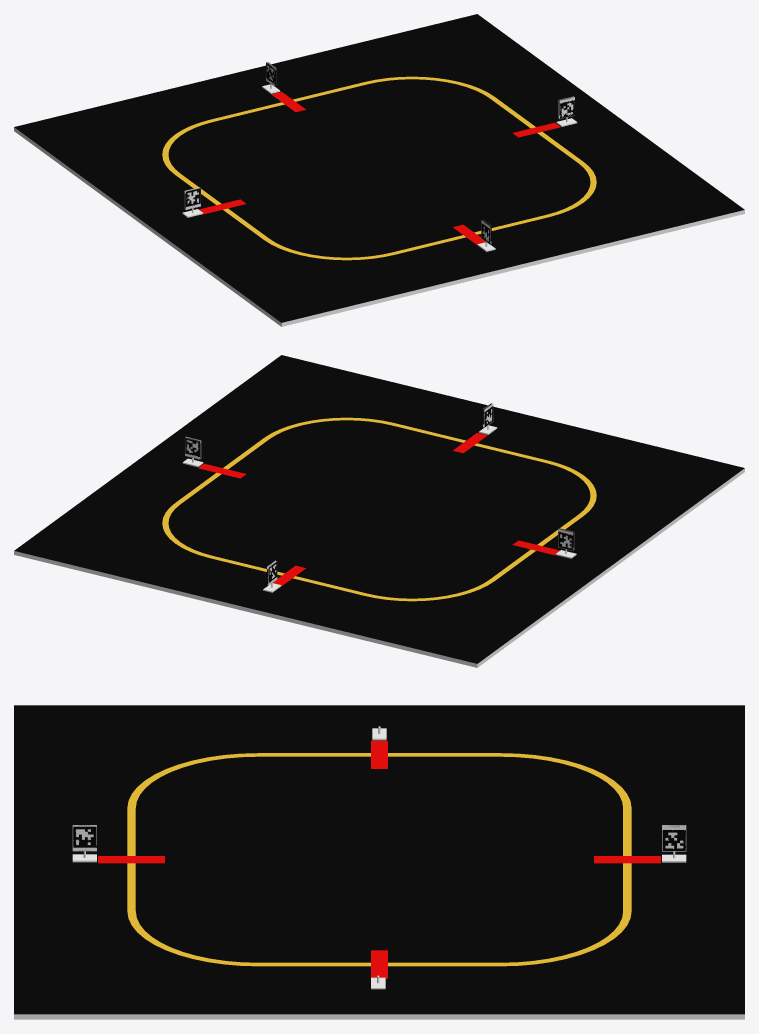
The model's file is patrolling_4.dae.
The picture shows the model from 3 angles, top to bottom: view 1: azimuth 30°, elevation 25°; view 2: azimuth 150°, elevation 25°; view 3: azimuth 270°, elevation 25°; orthographic projection. The views are drawn at different scales.
Visible parts, largest first — view 1: SketchUp (×7); view 2: SketchUp (×7); view 3: SketchUp (×9), Component_5, Component_8.
Part boxes in pixels (box(x1,y1,x2,y2)): SketchUp (×7): box(14, 14, 744, 326); SketchUp (×7): box(14, 355, 744, 667); SketchUp (×9): box(14, 705, 744, 1019); Component_5: box(662, 826, 686, 851); Component_8: box(72, 826, 96, 851).
Size of the model in its own units: 236 by 236 by 14.04.
Materials: 13 (8 with a texture image).
